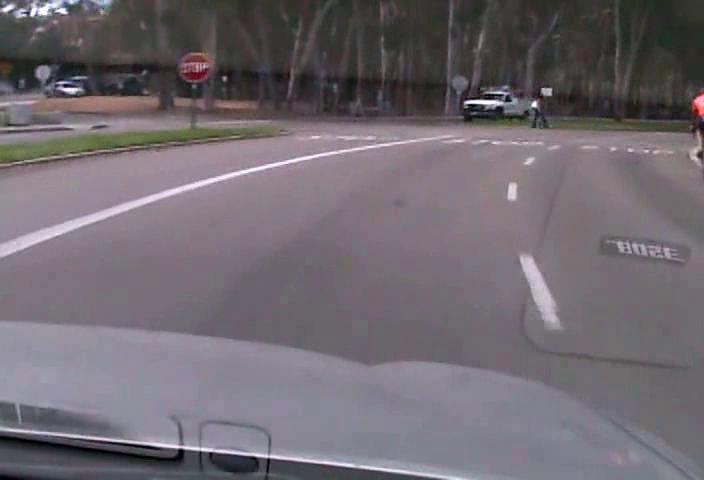stop: (177, 51, 209, 83)
